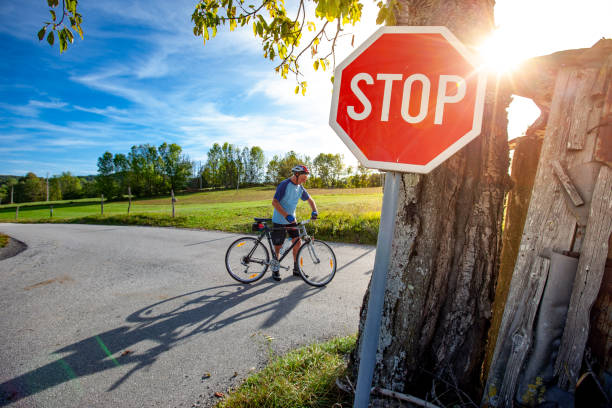StopSign: (328, 25, 487, 173)
